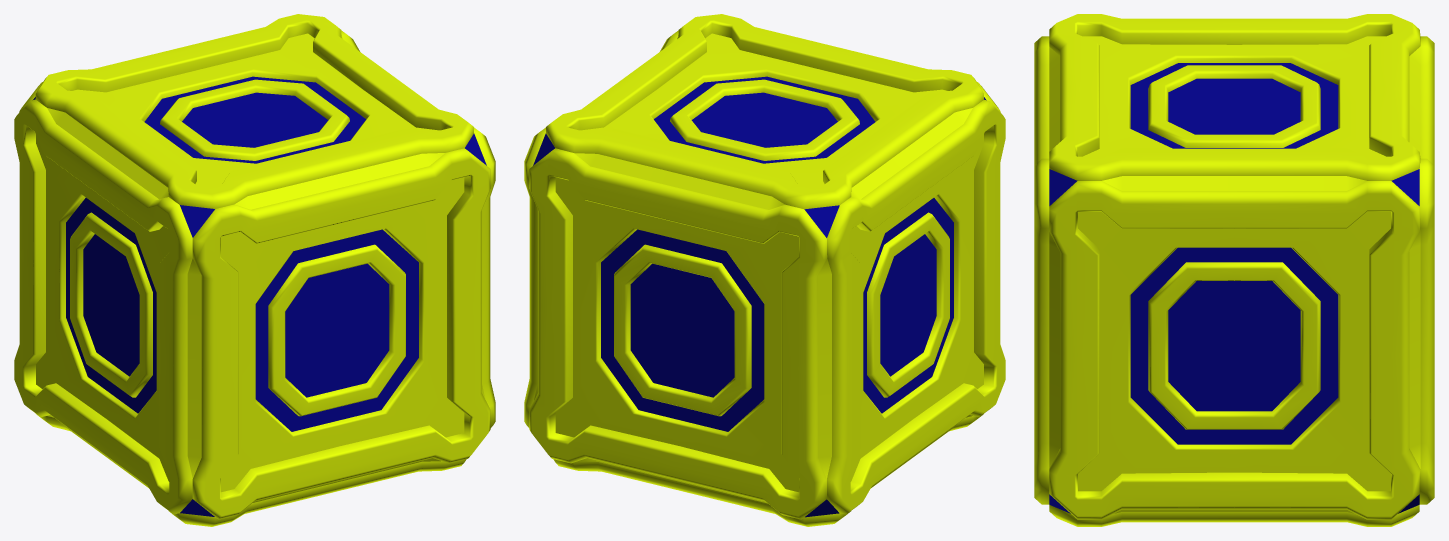
The model's file is crate_01.FBX.
3 views of the same model, side by side, from view 1: azimuth 30°, elevation 25°; view 2: azimuth 150°, elevation 25°; view 3: azimuth 270°, elevation 25° (orthographic). The views are drawn at different scales.
Parts seen in each view (by area): view 1: crate_01; view 2: crate_01; view 3: crate_01.
Part boxes in pixels (<box>): crate_01: <box>14,14,495,526</box>; crate_01: <box>524,14,1005,526</box>; crate_01: <box>1034,14,1434,526</box>.
Size of the model in its own units: 54 by 54 by 54.
